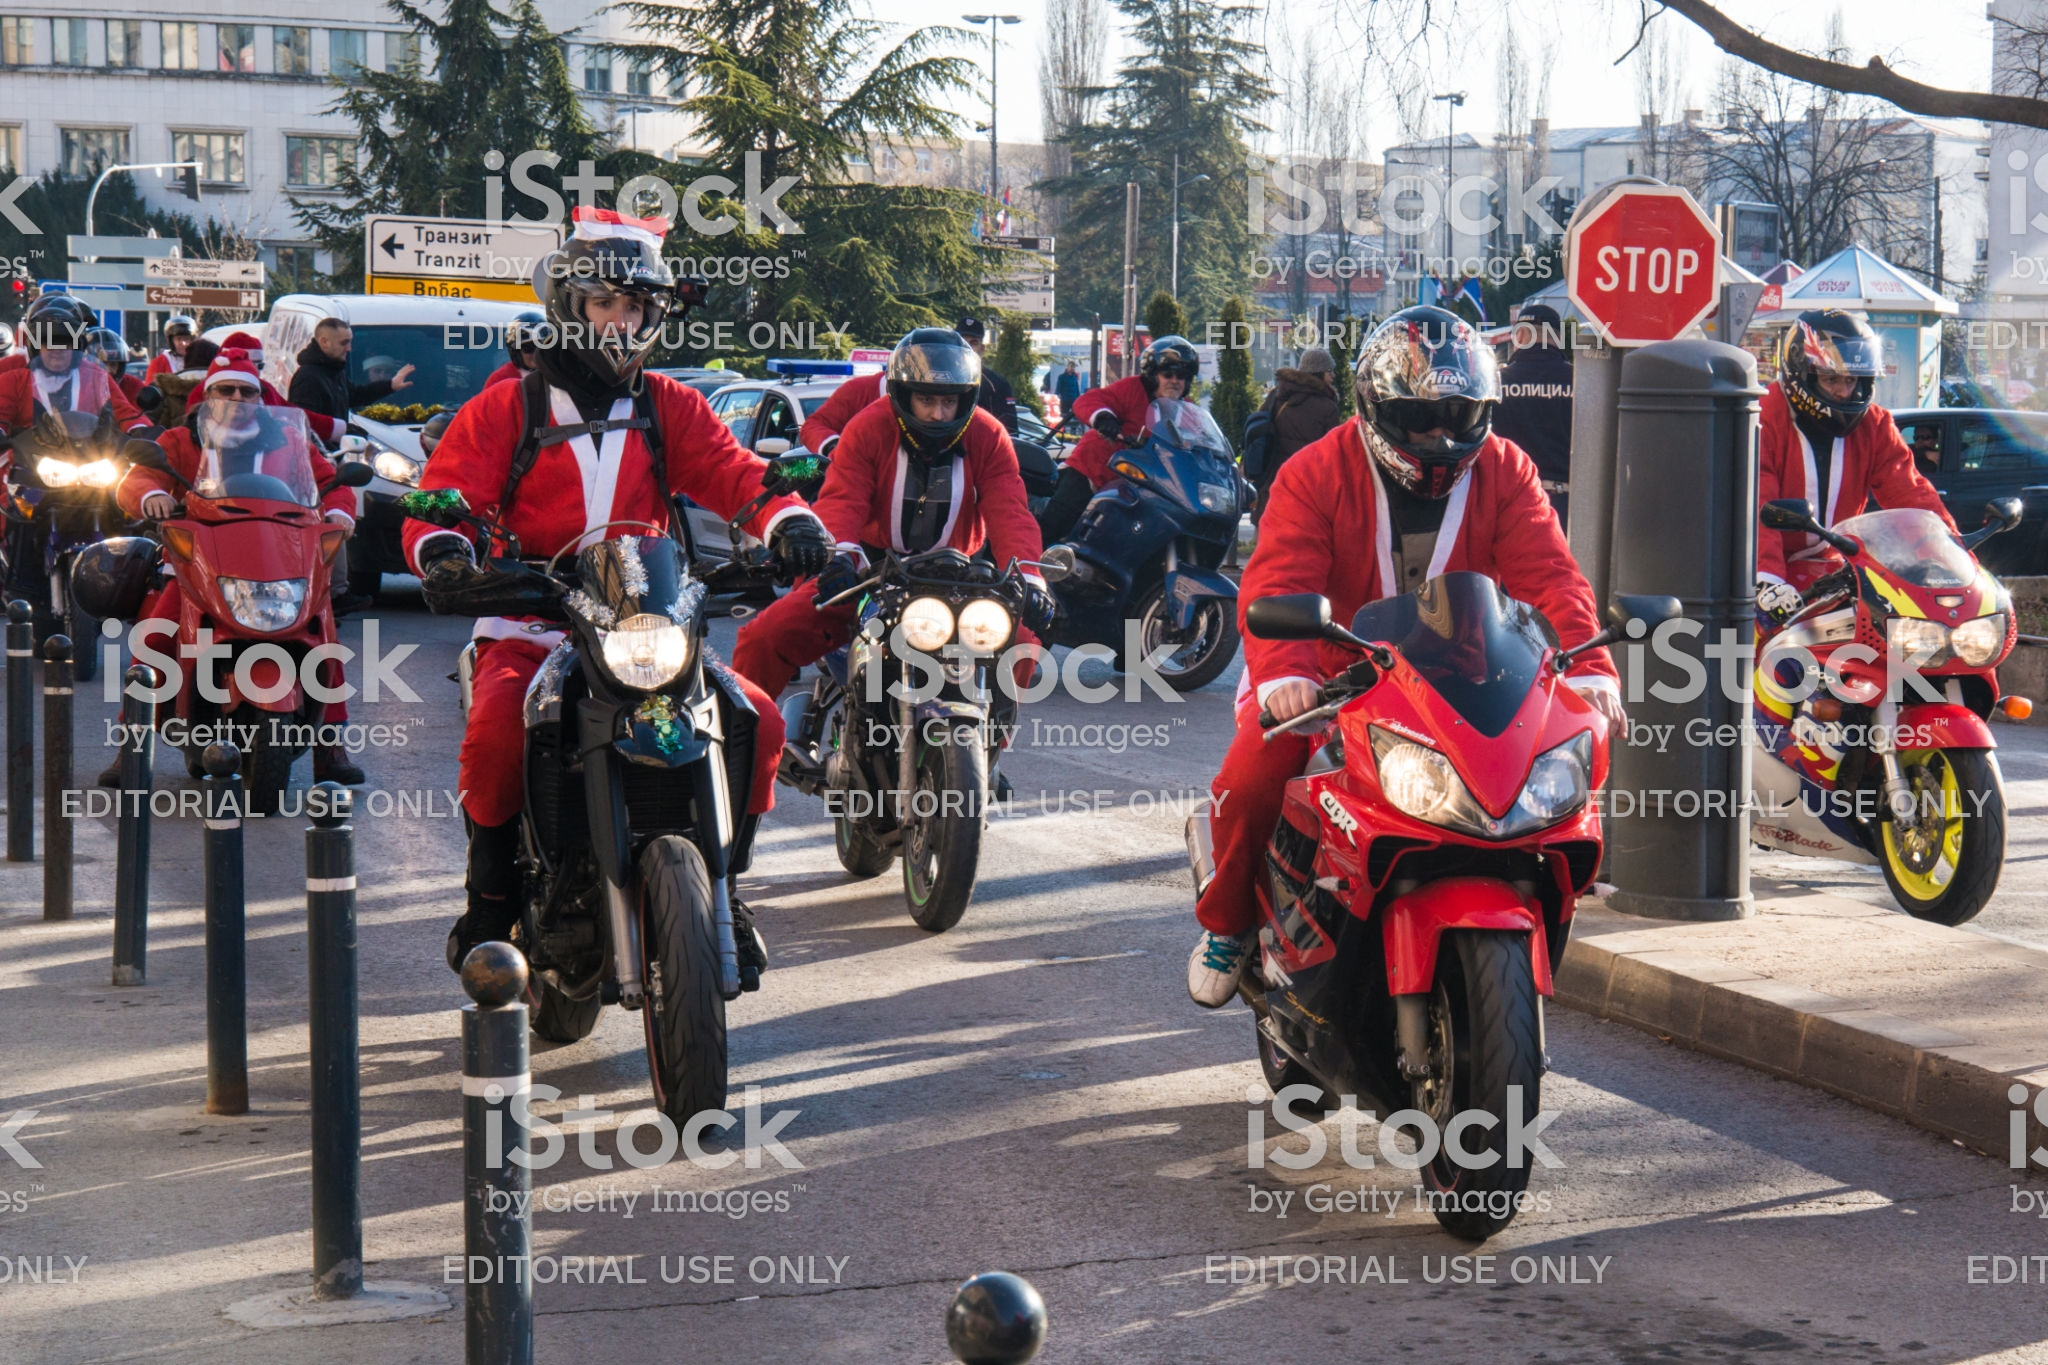helmet: (1357, 315, 1542, 472), (536, 227, 707, 390), (888, 318, 1002, 452), (1785, 311, 1902, 414)
